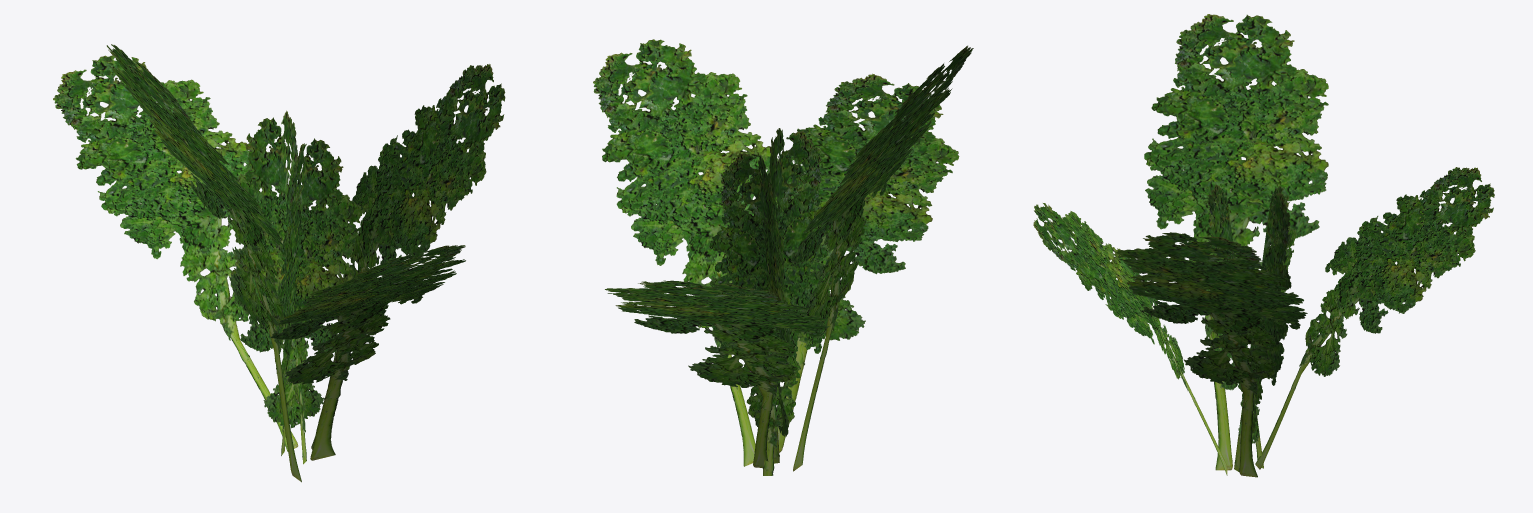
Rendered from Kale.FBX.
3 renders of one model, left to right at view 1: azimuth 30°, elevation 25°; view 2: azimuth 150°, elevation 25°; view 3: azimuth 270°, elevation 25°, orthographic. The views are drawn at different scales.
Visible parts, largest first — view 1: Kale; view 2: Kale; view 3: Kale.
Part boxes in pixels (box(x1,y1,x2,y2)): Kale: box(53, 44, 505, 482); Kale: box(593, 39, 973, 475); Kale: box(1033, 14, 1494, 477).
Size of the model in its own units: 47.84 by 56.58 by 63.96.
